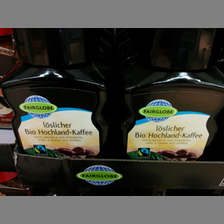coffee: (1, 28, 115, 157), (118, 28, 224, 161)
